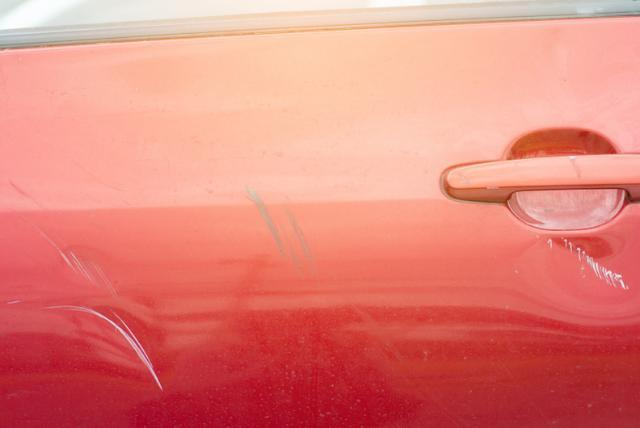Door: (0, 122, 640, 428)
